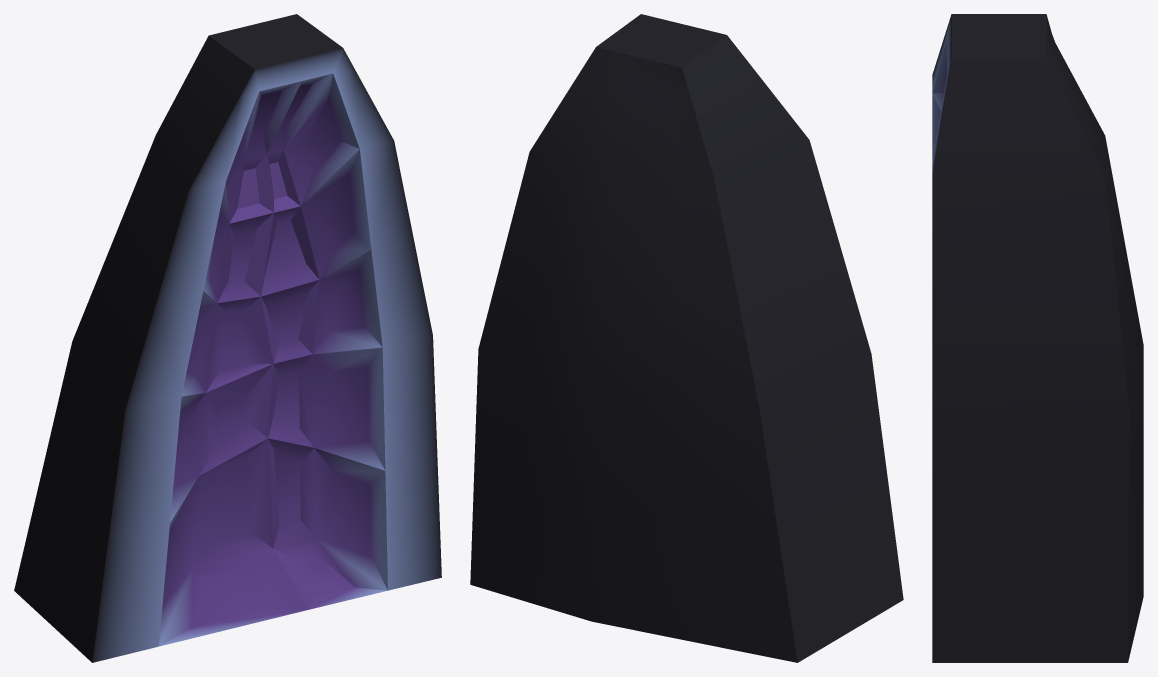
The model's file is geode.dae.
3 renders of one model, left to right at view 1: azimuth 30°, elevation 25°; view 2: azimuth 150°, elevation 25°; view 3: azimuth 270°, elevation 25°, orthographic. The views are drawn at different scales.
Parts seen in each view (by area): view 1: geode_MSH; view 2: geode_MSH; view 3: geode_MSH.
Part boxes in pixels (x1,y1,x2,y2): geode_MSH: (14, 14, 441, 662); geode_MSH: (470, 14, 903, 662); geode_MSH: (932, 14, 1143, 662).
Size of the model in its own units: 0.4497 by 0.6698 by 0.2292.
